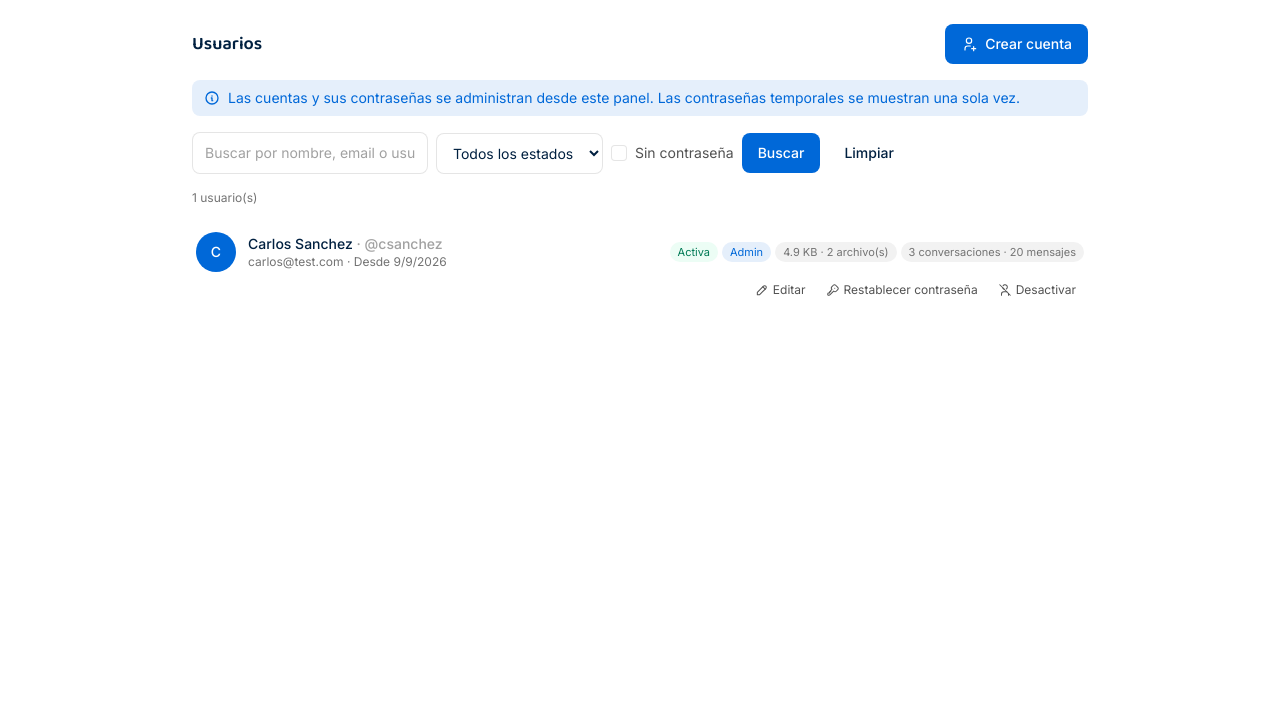
it: AdminUsersPanel › con cuentas locales › edits an account with its current values
Click the button "Editar" at x=780, y=290, box [747,278,814,302]
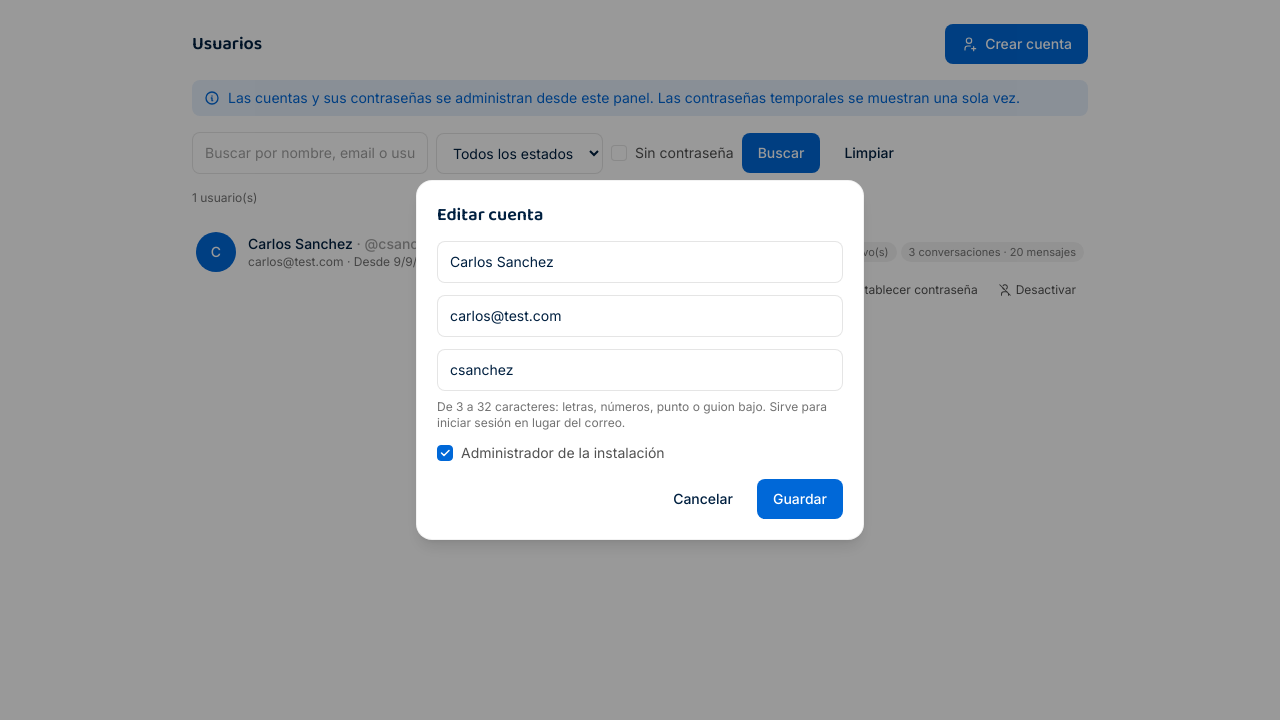
Expected: the field named "Nombre" holds "Carlos Sanchez"
Expected: the checkbox labelled "Administrador de la instalación" is checked, [437,445,453,461]
Replace the text in the field named "Nombre" with "Carlos S." at x=640, y=262, box [437,241,843,283]
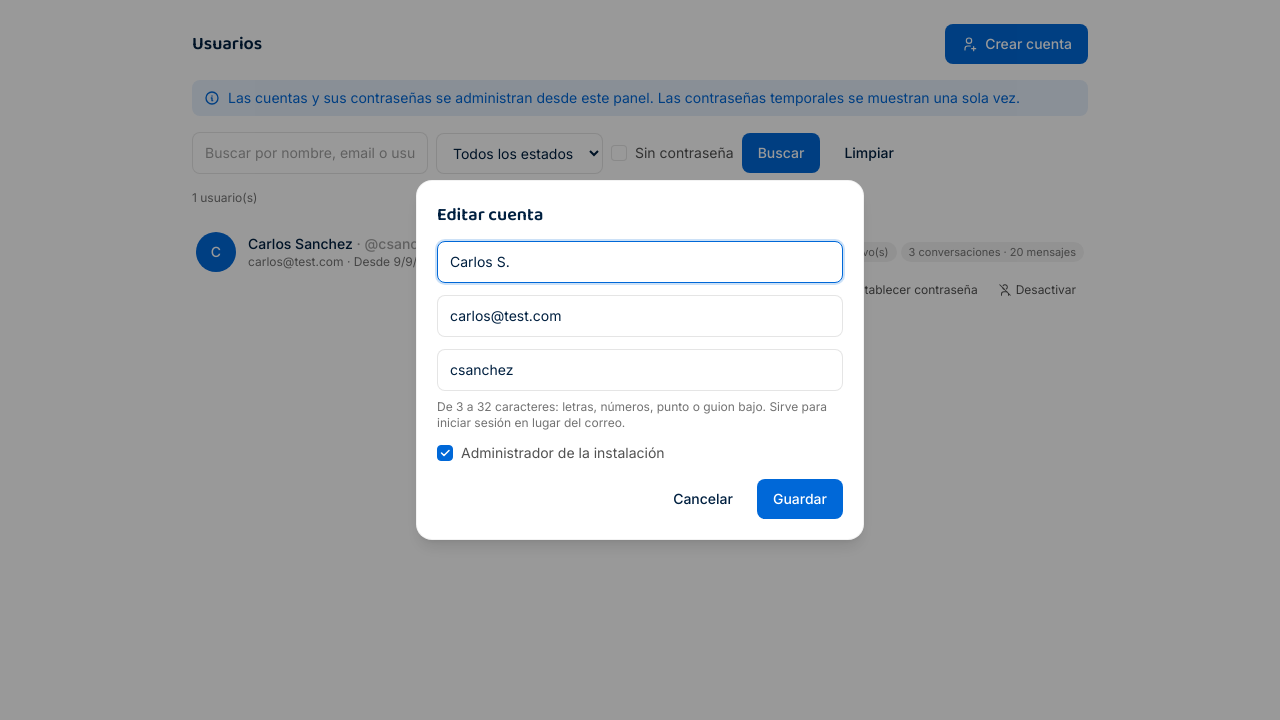
Click the button "Guardar" at x=800, y=499, box [757,479,843,519]
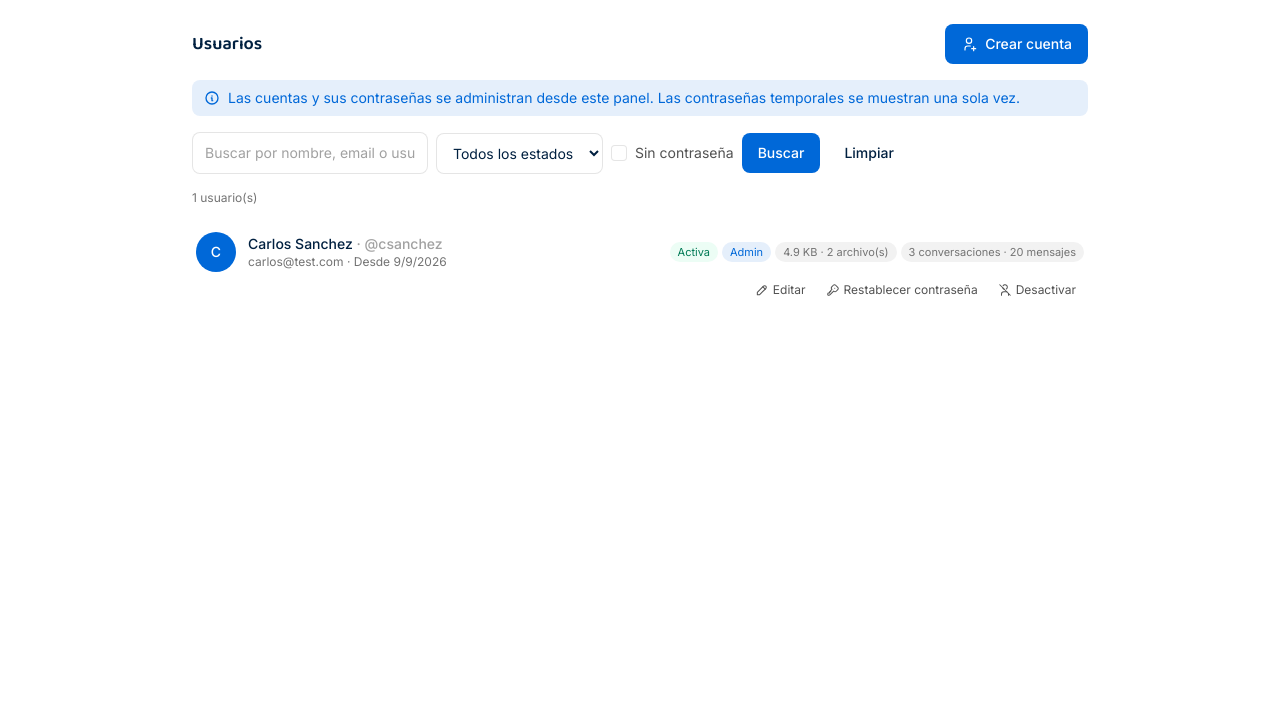
Expected: the heading "Editar cuenta" is gone
